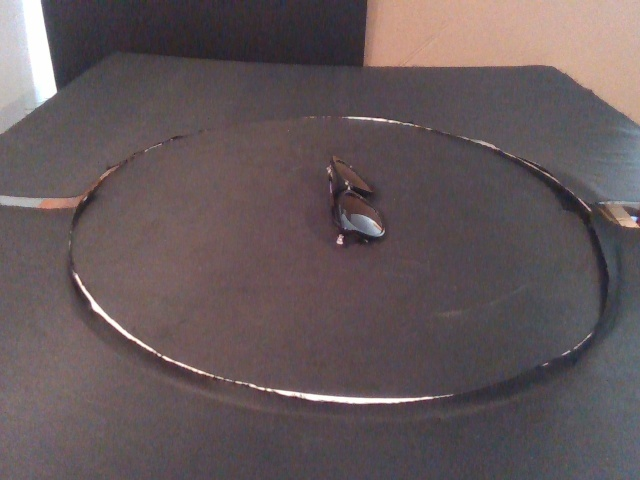glasses: (324, 155, 387, 246)
